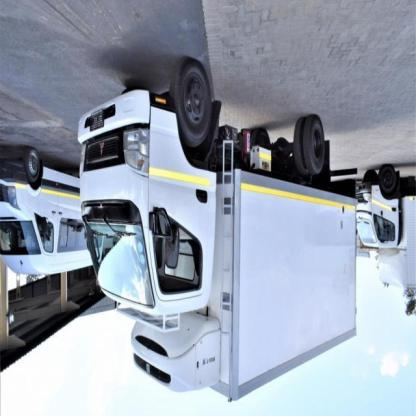truck: (78, 61, 358, 401), (358, 173, 416, 288)
